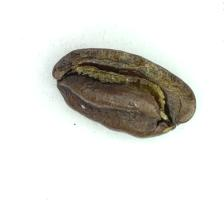NG: (59, 56, 172, 132)
